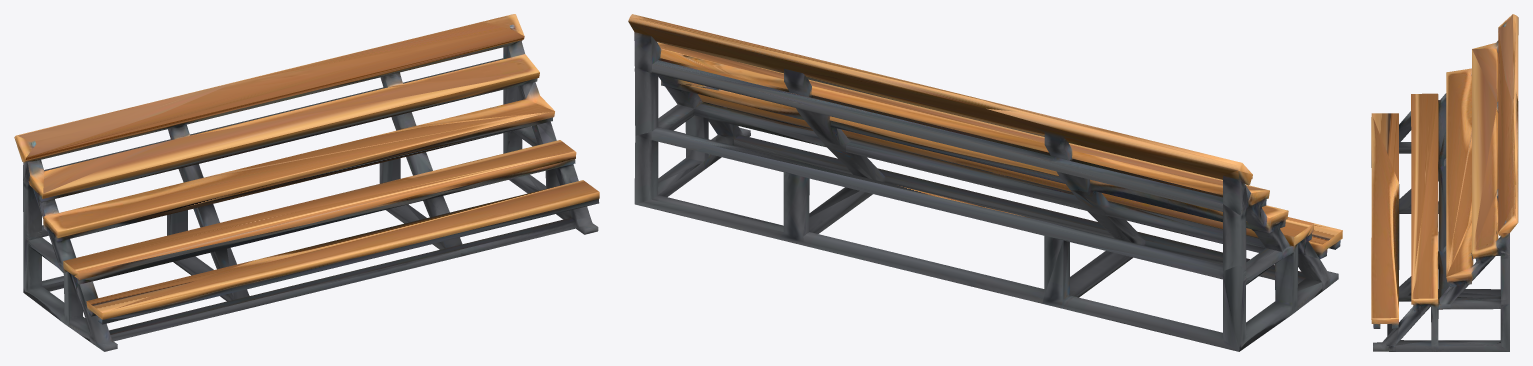
The model's file is gym-bleachers.glb.
The picture shows the model from 3 angles, left to right: view 1: azimuth 30°, elevation 25°; view 2: azimuth 150°, elevation 25°; view 3: azimuth 270°, elevation 25°; orthographic projection. The views are drawn at different scales.
Visible parts, largest first — view 1: SM_gym-bleachers; view 2: SM_gym-bleachers; view 3: SM_gym-bleachers.
Boxes of the visible parts, x1,y1,x2,y2 form: SM_gym-bleachers: [14, 14, 599, 351]; SM_gym-bleachers: [628, 14, 1342, 351]; SM_gym-bleachers: [1371, 14, 1518, 351].
Bounding box in the file's own units: 8 × 2.4 × 2.41.
Materials: 1 (1 with a texture image).
